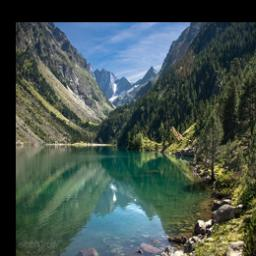Sparrow: (169, 127, 192, 147)
